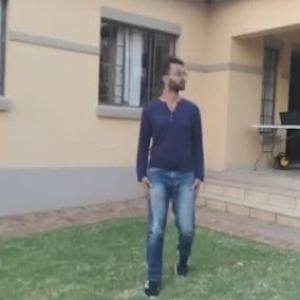follow: (140, 52, 209, 287)
